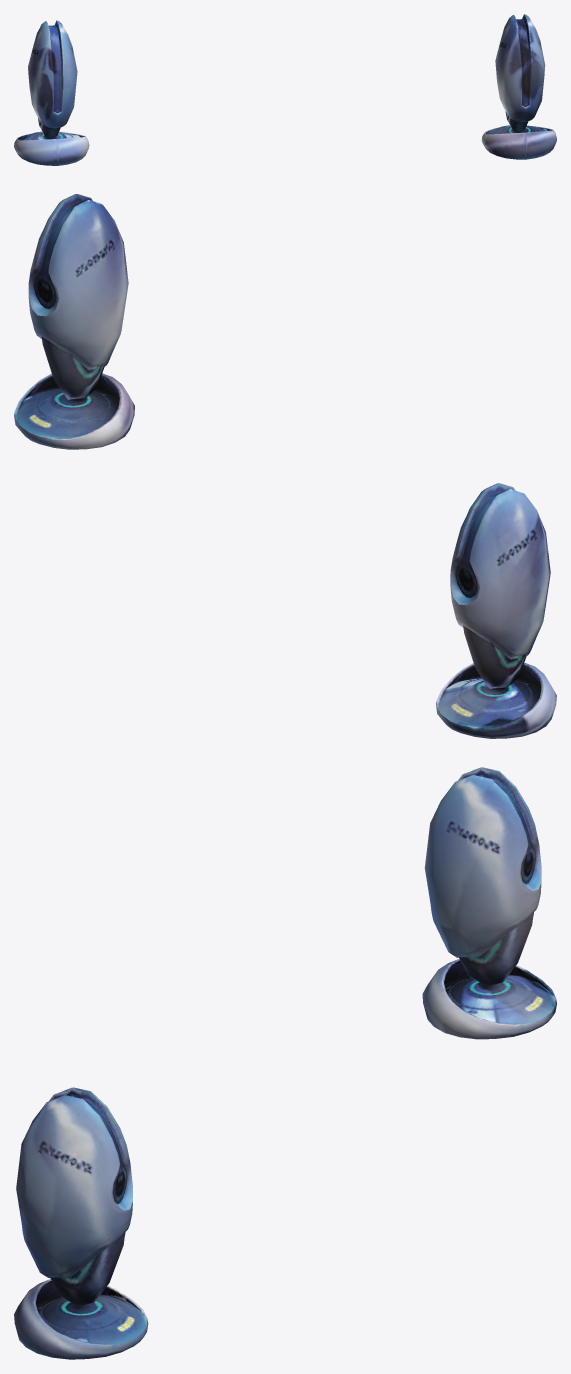
The model's file is pref_sm_4v4beachtech_WSJ_bk_centerblock_R01d_lv2.fbx.
3 views of the same model, one above another, from view 1: azimuth 30°, elevation 25°; view 2: azimuth 150°, elevation 25°; view 3: azimuth 270°, elevation 25° (orthographic). The views are drawn at different scales.
Visible parts, largest first — view 1: pref_sm_4v4beachtech_WSJ_bk_centerblock_R01d_lv2; view 2: pref_sm_4v4beachtech_WSJ_bk_centerblock_R01d_lv2; view 3: pref_sm_4v4beachtech_WSJ_bk_centerblock_R01d_lv2.
Part boxes in pixels (x1,y1,x2,y2): pref_sm_4v4beachtech_WSJ_bk_centerblock_R01d_lv2: [14, 14, 556, 165]; pref_sm_4v4beachtech_WSJ_bk_centerblock_R01d_lv2: [14, 194, 556, 738]; pref_sm_4v4beachtech_WSJ_bk_centerblock_R01d_lv2: [14, 767, 556, 1359].
Size of the model in its own units: 11.67 by 3.48 by 7.09.
